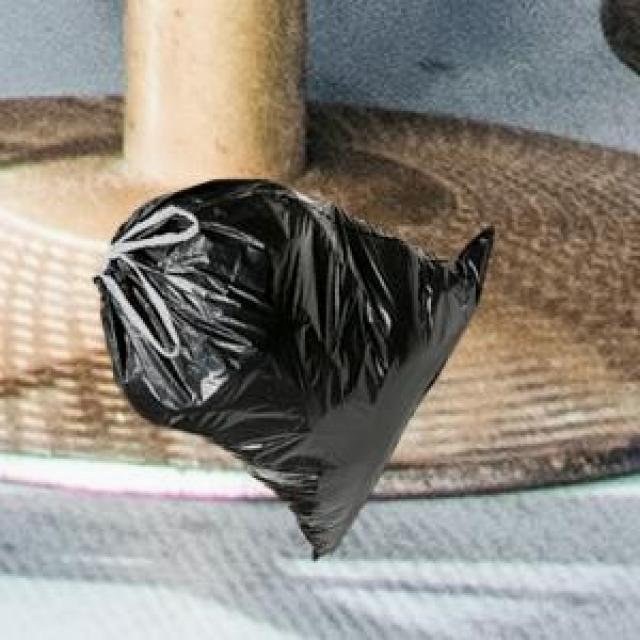Trashbag: (91, 174, 499, 560)
